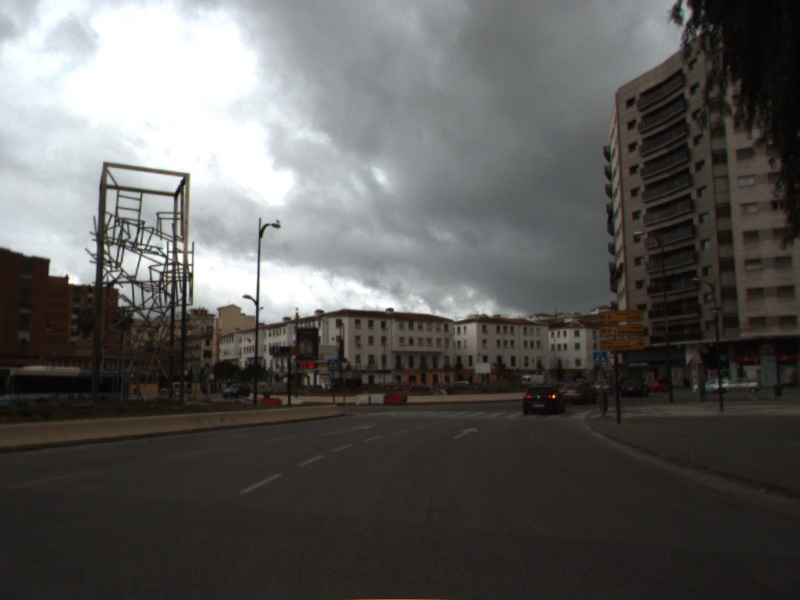STRAIGHT: (317, 422, 379, 439), (450, 425, 481, 441)
